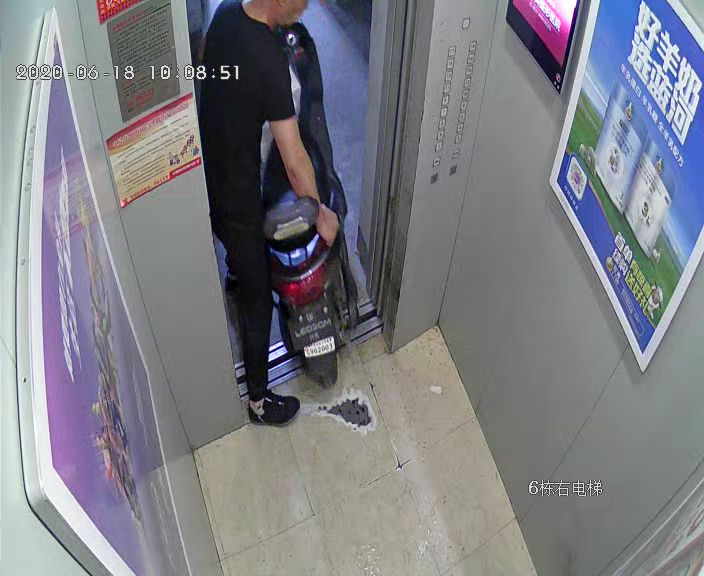Electric-bicycle: (265, 19, 360, 383)
